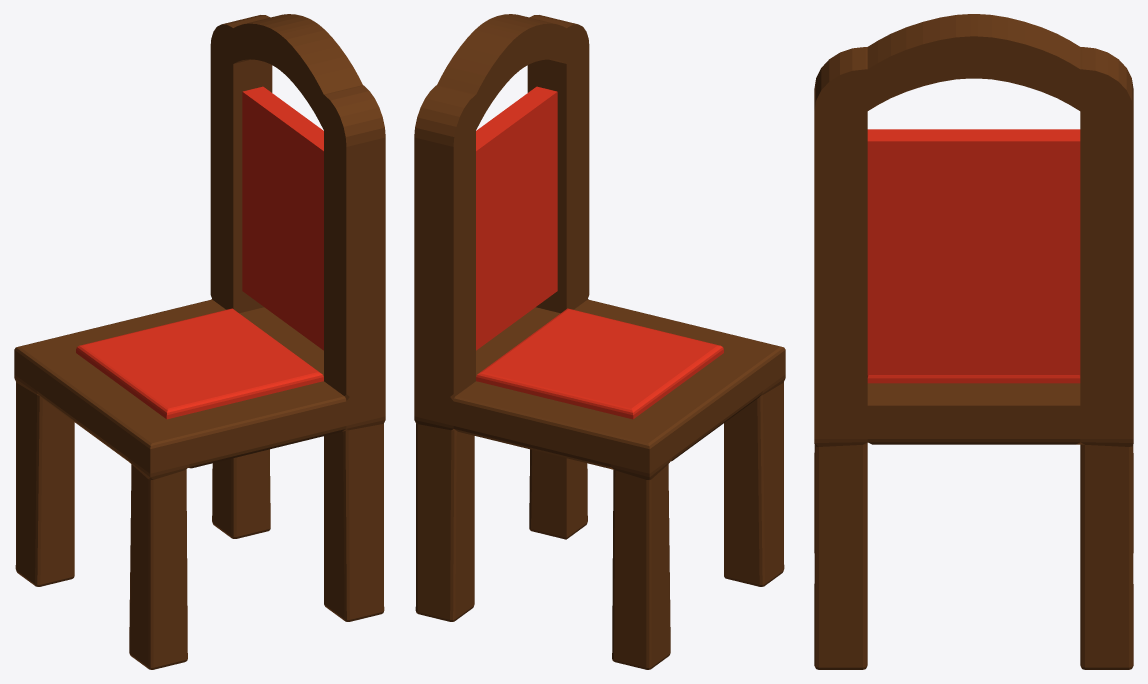
Rendered from chair.fbx.
3 renders of one model, left to right at view 1: azimuth 30°, elevation 25°; view 2: azimuth 150°, elevation 25°; view 3: azimuth 270°, elevation 25°, orthographic. The views are drawn at different scales.
Parts seen in each view (by area): view 1: Chair; view 2: Chair; view 3: Chair.
Boxes of the visible parts, bbox=[...] form: Chair: bbox=[14, 14, 385, 669]; Chair: bbox=[414, 14, 785, 669]; Chair: bbox=[814, 14, 1133, 669].
Bounding box in the file's own units: 68.8 × 151 × 68.8.
